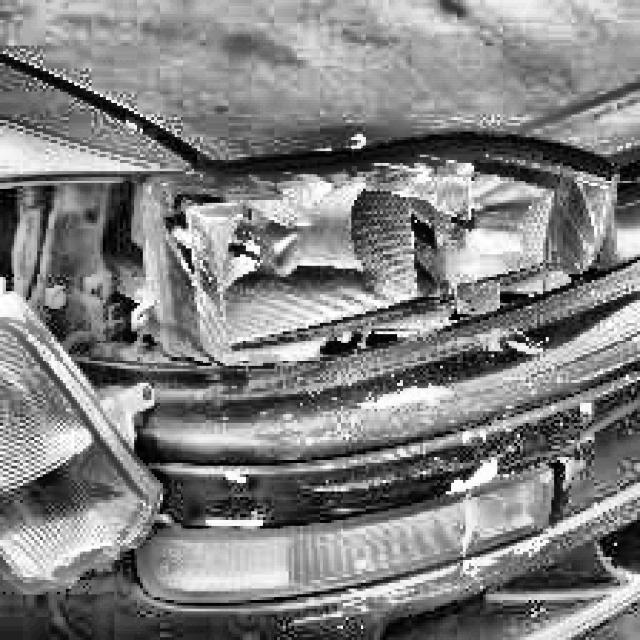head_lamp: (5, 147, 597, 360)
